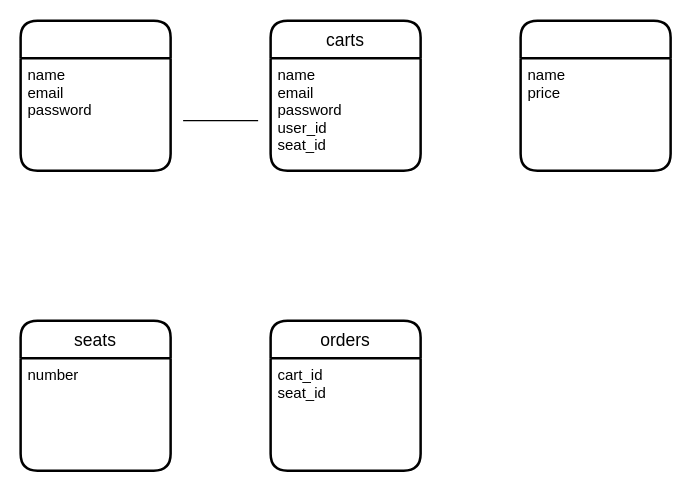
Image size: 691x491. Some labels were removed from this diagram. The shapes that lost their labels are listed below. From the top down, each one's box as (x1, y1, x2, y2) in pixels, then its label:
(19, 19, 171, 171): users(shop)
(519, 19, 671, 171): menus
